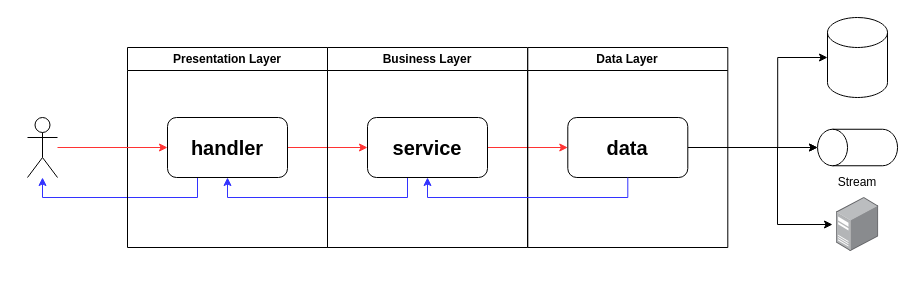
Some shapes in this 916 by 290 pixel diagram are drawn without their labels. Here are the shapes that lost their labels. From the top down, the centre of each, then its label:
At point (857, 57): "DB".
At point (42, 147): "Client".
At point (857, 224): "API Server".
